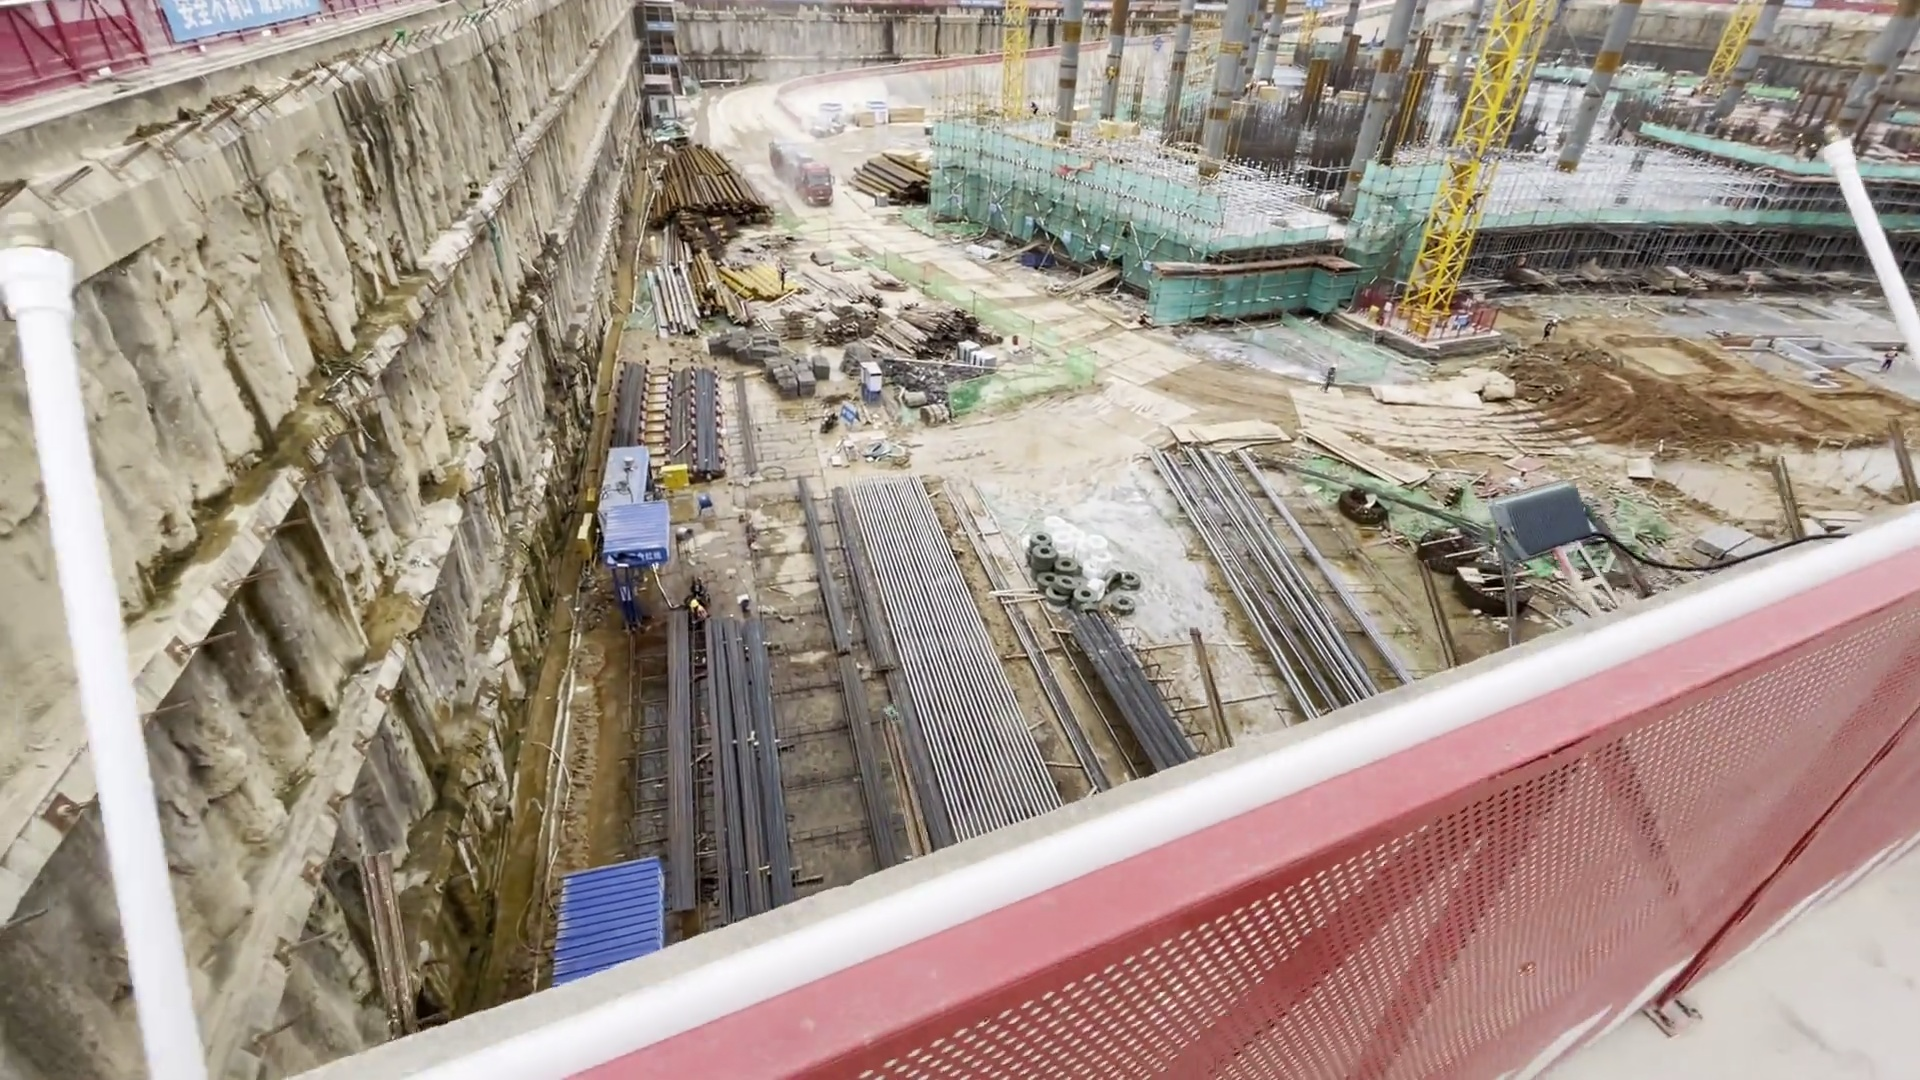brick: (1697, 525, 1770, 573), (956, 336, 995, 383)
ebox: (660, 462, 697, 503), (1410, 316, 1430, 340)
fence: (1147, 685, 1863, 1037), (1, 1, 169, 91)
helmet: (690, 599, 699, 609), (1330, 363, 1338, 370), (1552, 317, 1558, 326)
hopper: (1021, 251, 1055, 269)
person: (774, 253, 796, 289), (689, 598, 713, 626), (1539, 314, 1557, 343), (1325, 361, 1340, 397), (1881, 343, 1898, 372)
rebar: (669, 656, 778, 900), (830, 665, 961, 859), (1081, 603, 1219, 779), (794, 475, 898, 675), (653, 363, 731, 468), (605, 353, 651, 449)
slogan: (174, 1, 280, 39), (608, 551, 664, 570)
vest: (697, 604, 710, 620)
wood: (838, 297, 977, 338)
